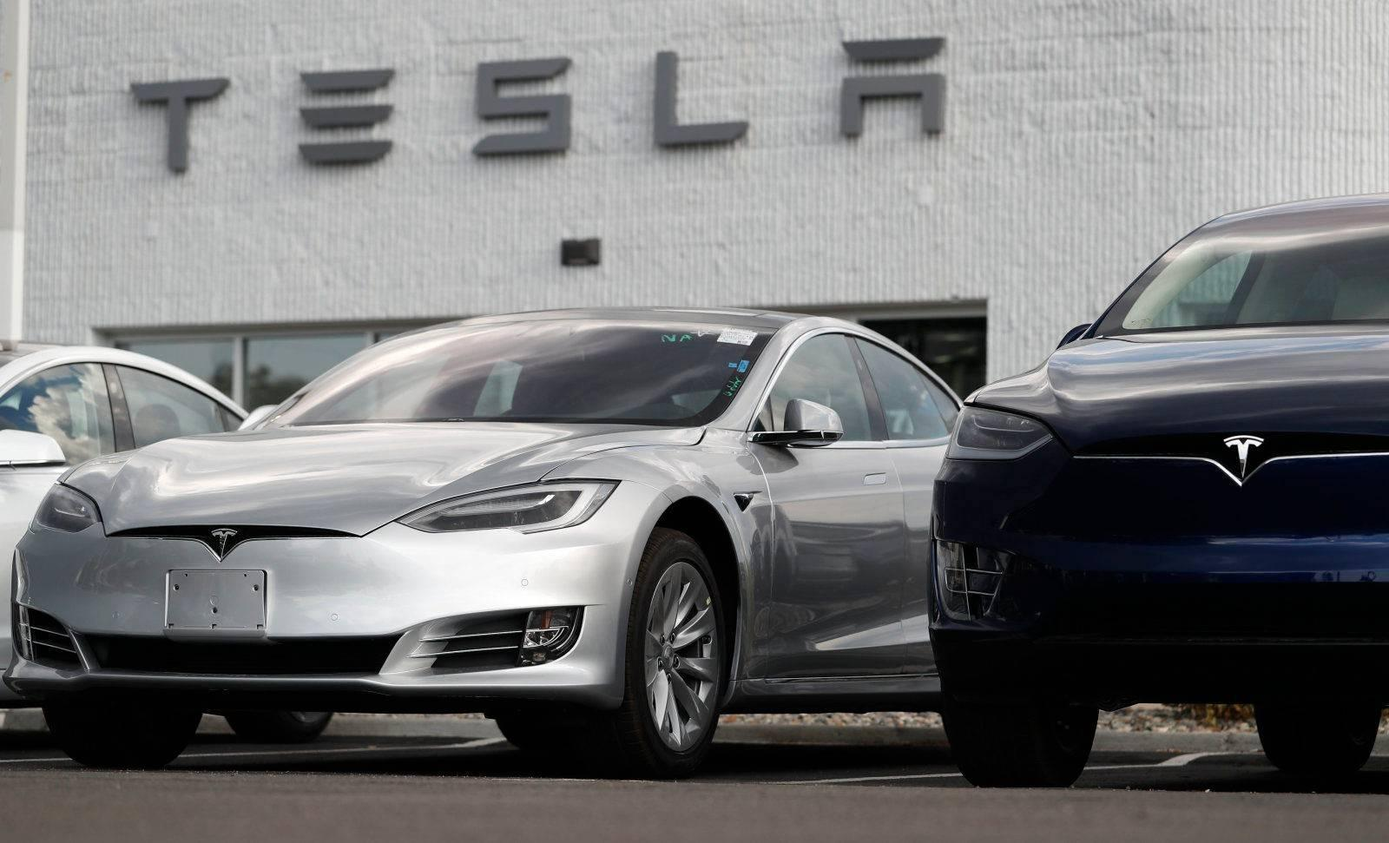Tesla: (1223, 434, 1264, 478), (209, 527, 239, 561)
